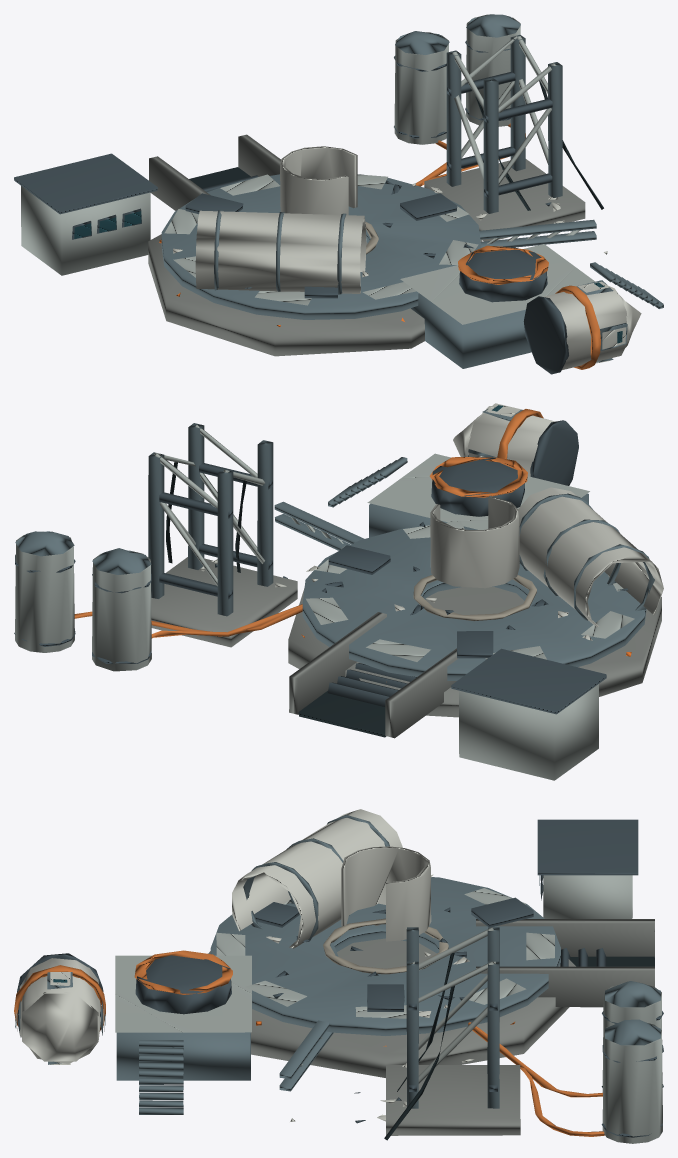
File: hugin_launchpad_d3_lod2.glb
The picture shows the model from 3 angles, top to bottom: view 1: azimuth 30°, elevation 25°; view 2: azimuth 150°, elevation 25°; view 3: azimuth 270°, elevation 25°; orthographic projection. The views are drawn at different scales.
Parts seen in each view (by area): view 1: HUGIN_LAUNCHPAD_LOD2_STATIC_GEOMETRY; view 2: HUGIN_LAUNCHPAD_LOD2_STATIC_GEOMETRY; view 3: HUGIN_LAUNCHPAD_LOD2_STATIC_GEOMETRY.
Part boxes in pixels (bbox=[...]): HUGIN_LAUNCHPAD_LOD2_STATIC_GEOMETRY: bbox=[14, 14, 663, 374]; HUGIN_LAUNCHPAD_LOD2_STATIC_GEOMETRY: bbox=[14, 403, 663, 780]; HUGIN_LAUNCHPAD_LOD2_STATIC_GEOMETRY: bbox=[14, 809, 663, 1143].
Bounding box in the file's own units: 28.13 × 8.09 × 28.95.
